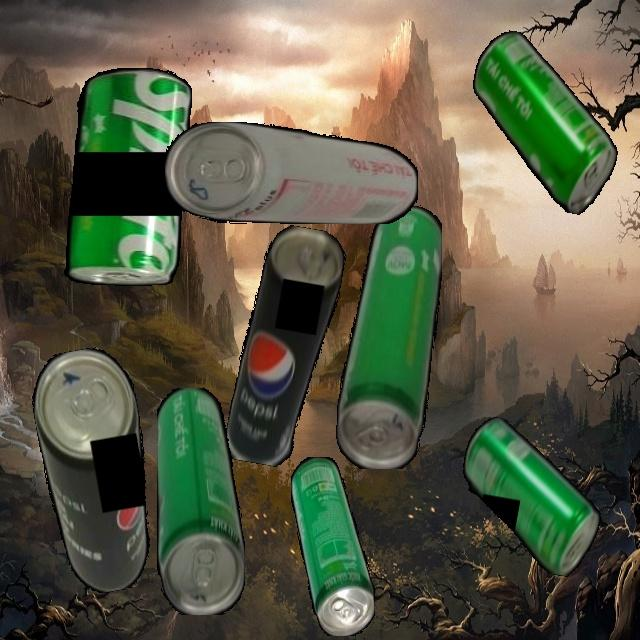debris: (25, 342, 168, 599), (27, 67, 192, 286), (454, 26, 635, 219), (222, 221, 350, 472), (335, 204, 442, 469), (448, 414, 614, 580), (165, 121, 418, 224), (156, 387, 245, 615), (290, 456, 375, 636)
